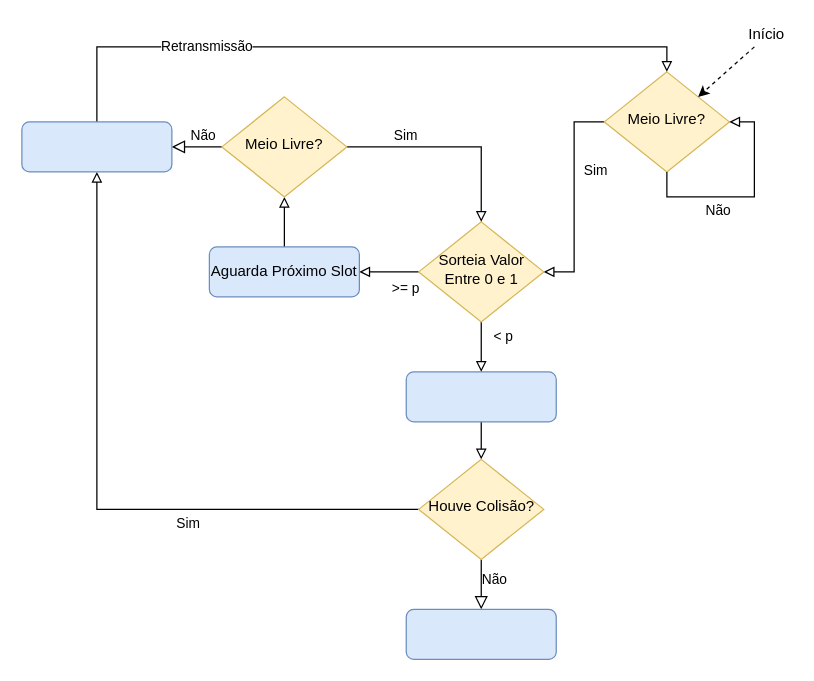
Some shapes in this 814 by 681 pixel diagram are drawn without their labels. The shapes that lost their labels are listed below. From the top down, each one's box as (x1, y1, x2, y2) in pixels, then its label:
(21, 121, 172, 172): Aguarda Backoff Aleatório
(405, 371, 556, 422): Transmite o Quadro
(405, 608, 556, 659): Fim da Transmissão
